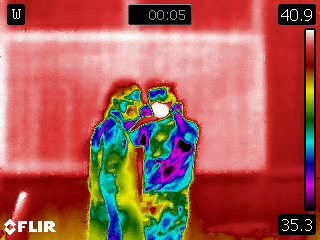human: (130, 77, 202, 240), (84, 80, 144, 240)
